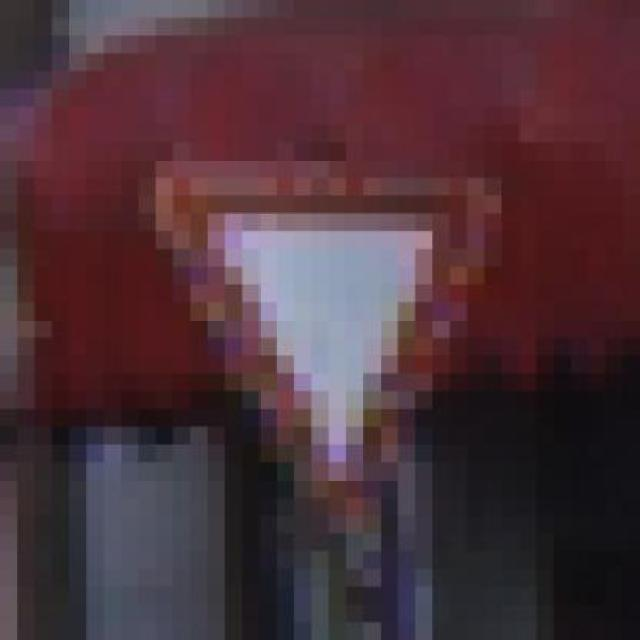Give Way: (103, 107, 554, 587)
